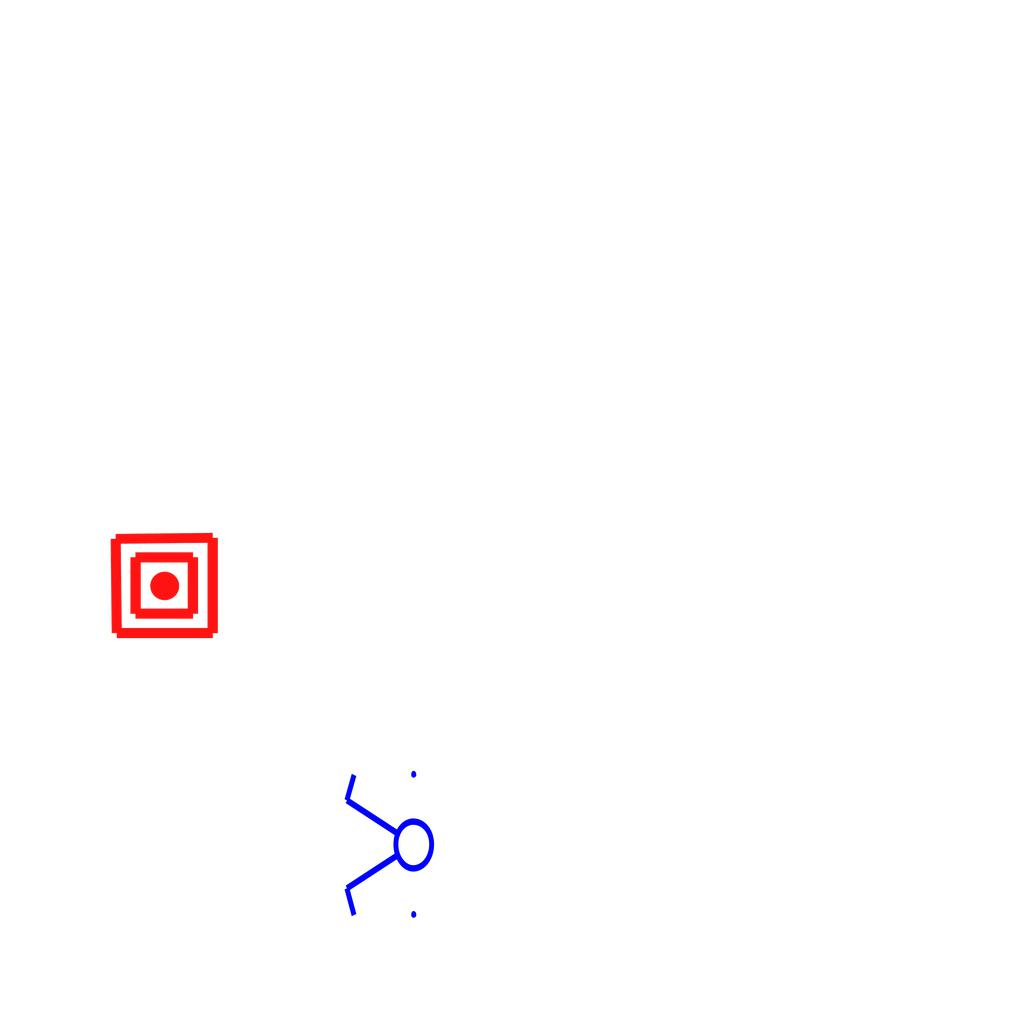NAM-Nichtautomatischer_Melder: (108, 529, 221, 642)
Serienschalter: (340, 762, 436, 930)
